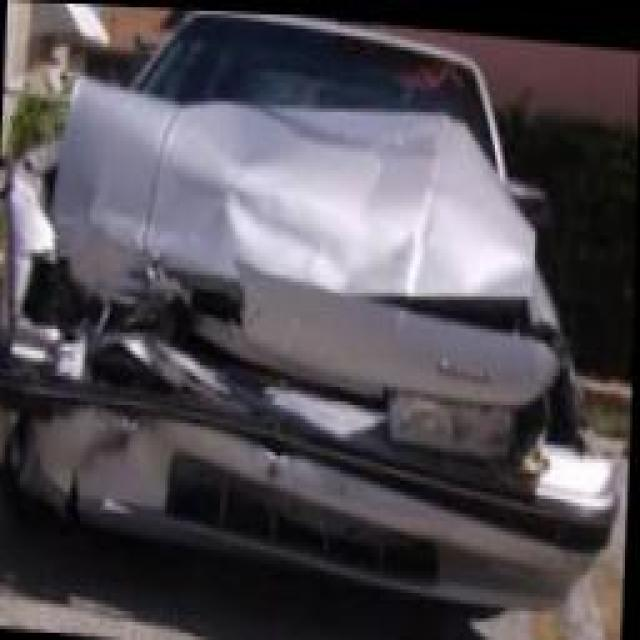Bonnet: (53, 75, 565, 405)
Bumper: (0, 351, 622, 610)
Fender: (512, 298, 622, 483), (0, 132, 65, 359)
